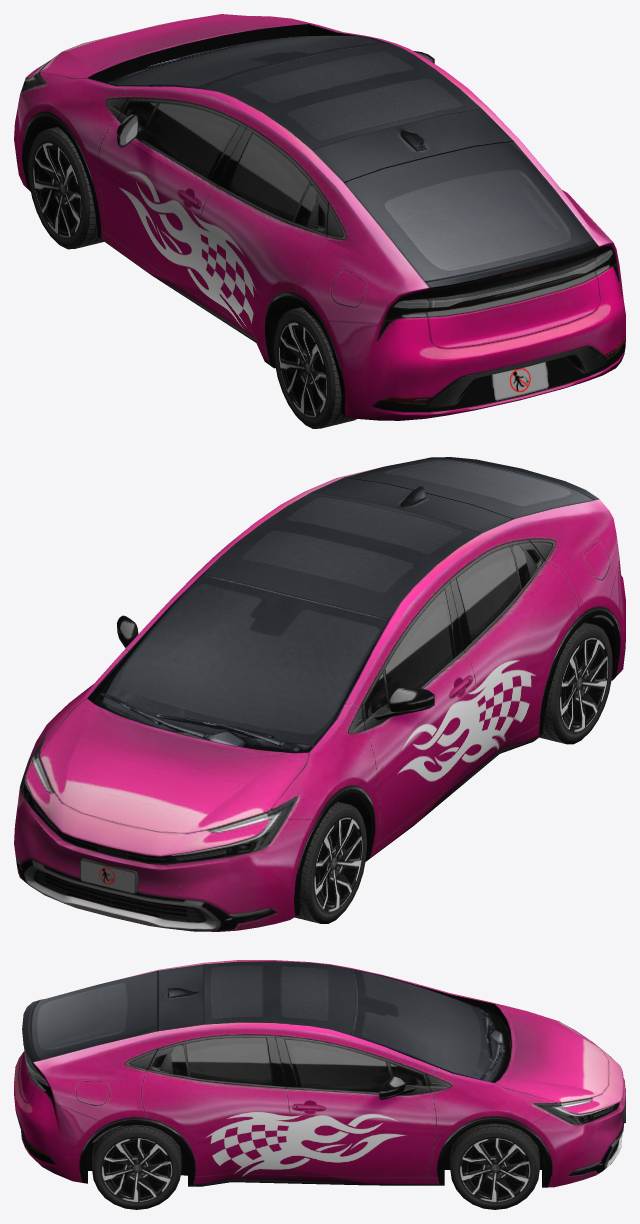
File: car2 (1).fbx
3 views of the same model, one above another, from view 1: azimuth 30°, elevation 25°; view 2: azimuth 150°, elevation 25°; view 3: azimuth 270°, elevation 25° (orthographic). The views are drawn at different scales.
Parts seen in each view (by area): view 1: CAR, WHEEL F L, WHEEL B L; view 2: CAR, WHEEL F L, WHEEL B L; view 3: CAR, WHEEL F, WHEEL B.
Part boxes in pixels (box(x1,y1,x2,y2)): CAR: box(14, 14, 625, 420); WHEEL F L: box(28, 126, 103, 249); WHEEL B L: box(273, 307, 356, 428); CAR: box(14, 457, 625, 931); WHEEL F L: box(294, 801, 367, 923); WHEEL B L: box(539, 622, 612, 744); CAR: box(14, 960, 625, 1187); WHEEL F: box(450, 1123, 539, 1209); WHEEL B: box(92, 1124, 181, 1209).
Bounding box in the file's own units: 200 × 143 × 460.
1 material, 1 textured.
